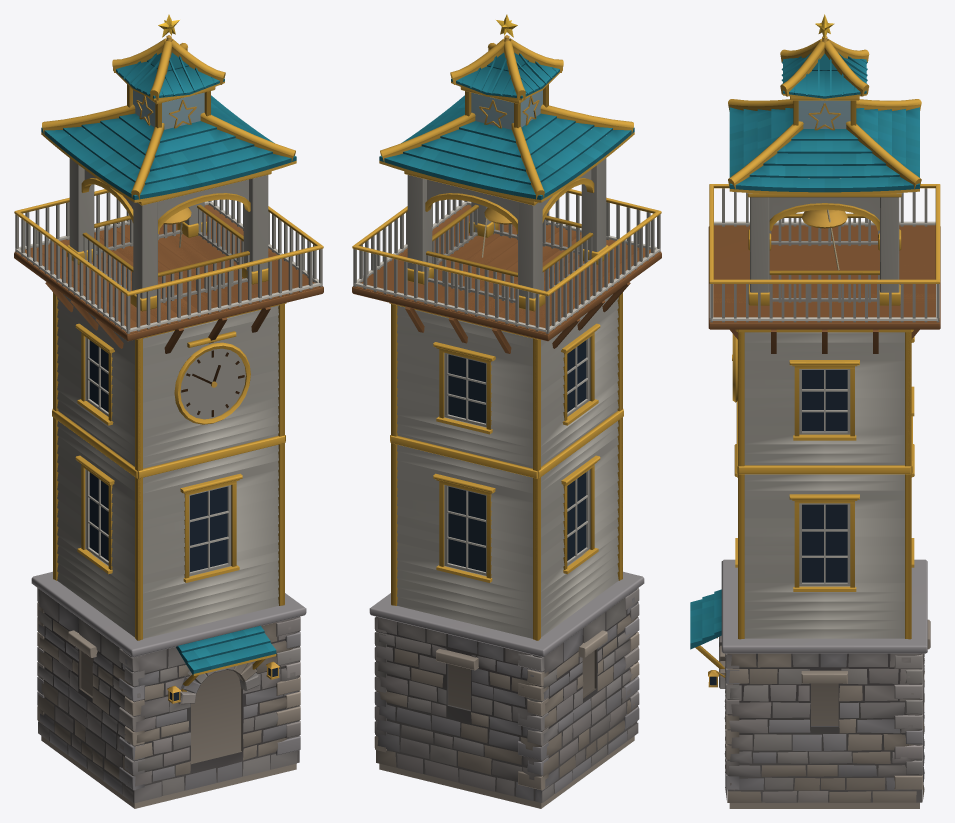
The model's file is belltower.glb.
3 views of the same model, side by side, from view 1: azimuth 30°, elevation 25°; view 2: azimuth 150°, elevation 25°; view 3: azimuth 270°, elevation 25° (orthographic).
Parts seen in each view (by area): view 1: Belltower Clapboard, Belltower Trim, Belltower Roof teal, Belltower Wood, Belltower Window glow, Belltower Lamp glass, Belltower Brass; view 2: Belltower Clapboard, Belltower Trim, Belltower Roof teal, Belltower Wood, Belltower Window glow, Belltower Lamp glass; view 3: Belltower Clapboard, Belltower Trim, Belltower Roof teal, Belltower Wood, Belltower Window glow, Belltower Lamp glass, Bell Brass.
Boxes of the visible parts, <box> form: Belltower Clapboard: <box>15,158,322,808</box>; Belltower Trim: <box>14,38,323,691</box>; Belltower Roof teal: <box>41,52,296,675</box>; Belltower Wood: <box>14,205,323,416</box>; Belltower Window glow: <box>89,340,277,700</box>; Belltower Lamp glass: <box>133,90,204,129</box>; Belltower Brass: <box>136,35,279,703</box>; Belltower Clapboard: <box>353,158,660,808</box>; Belltower Trim: <box>352,38,661,640</box>; Belltower Roof teal: <box>379,52,634,199</box>; Belltower Wood: <box>352,205,661,353</box>; Belltower Window glow: <box>448,340,586,571</box>; Belltower Lamp glass: <box>471,90,542,129</box>; Belltower Clapboard: <box>709,178,939,808</box>; Belltower Trim: <box>695,38,940,675</box>; Belltower Roof teal: <box>690,52,919,649</box>; Belltower Wood: <box>708,225,940,353</box>; Belltower Window glow: <box>710,370,847,685</box>; Belltower Lamp glass: <box>798,100,850,128</box>; Bell Brass: <box>801,209,847,228</box>.
Size of the model in its own units: 5 by 17.95 by 5.4.
